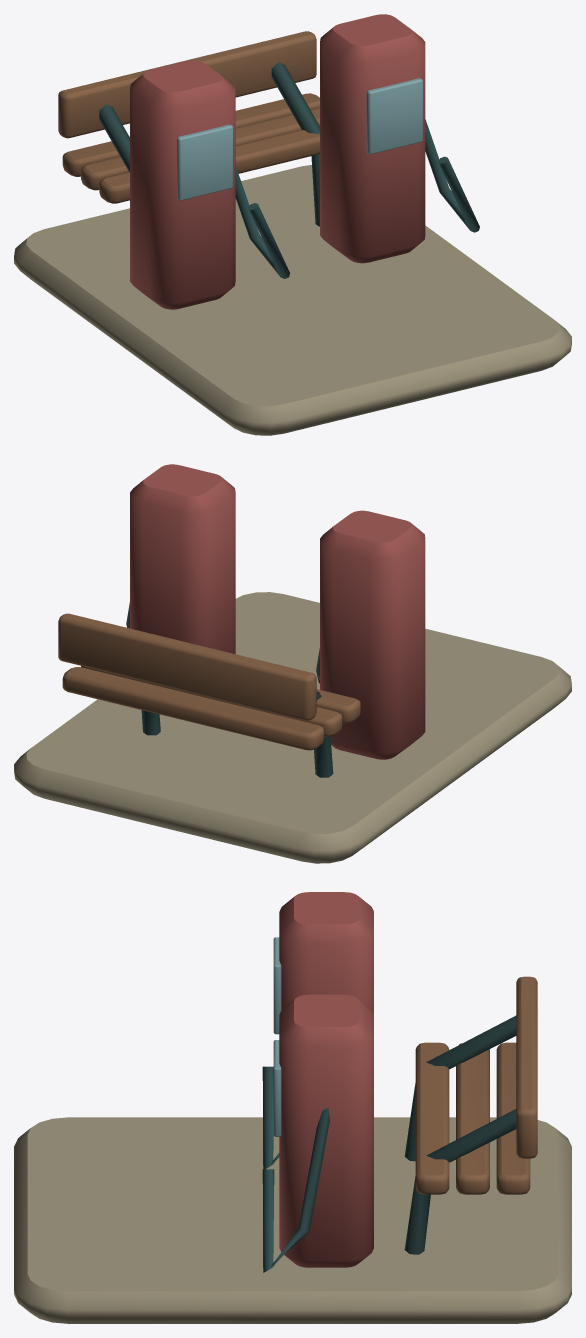
File: route66_fuel_1.glb
3 renders of one model, top to bottom at view 1: azimuth 30°, elevation 25°; view 2: azimuth 150°, elevation 25°; view 3: azimuth 270°, elevation 25°, orthographic. The views are drawn at different scales.
Visible parts, largest first — view 1: Route66Fuel1; view 2: Route66Fuel1; view 3: Route66Fuel1.
Part boxes in pixels (box(x1,y1,x2,y2)): Route66Fuel1: box(14, 14, 571, 435); Route66Fuel1: box(14, 464, 571, 863); Route66Fuel1: box(14, 892, 571, 1323).
Bounding box in the file's own units: 1.97 × 1.36 × 2.48.
